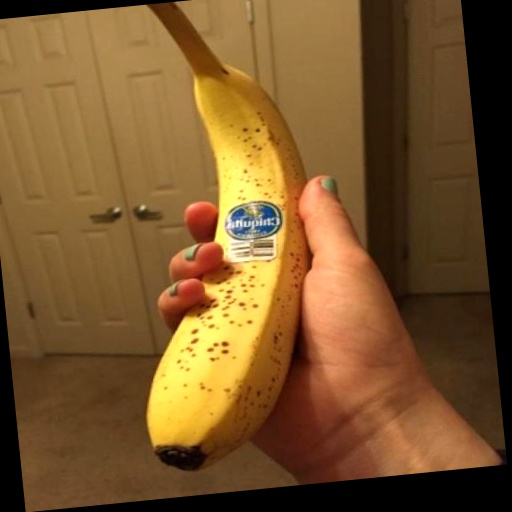fruit: (147, 2, 309, 469)
